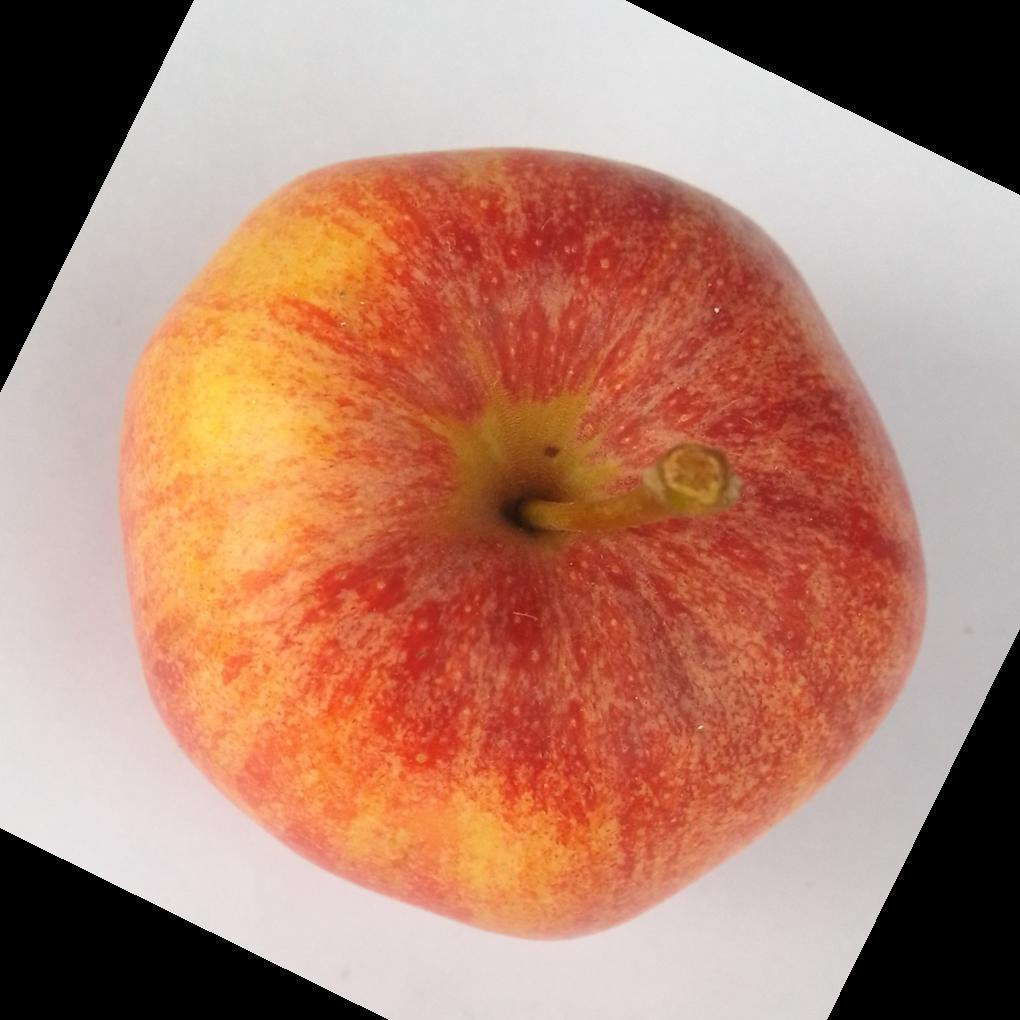FreshGuava: (115, 147, 929, 947)
